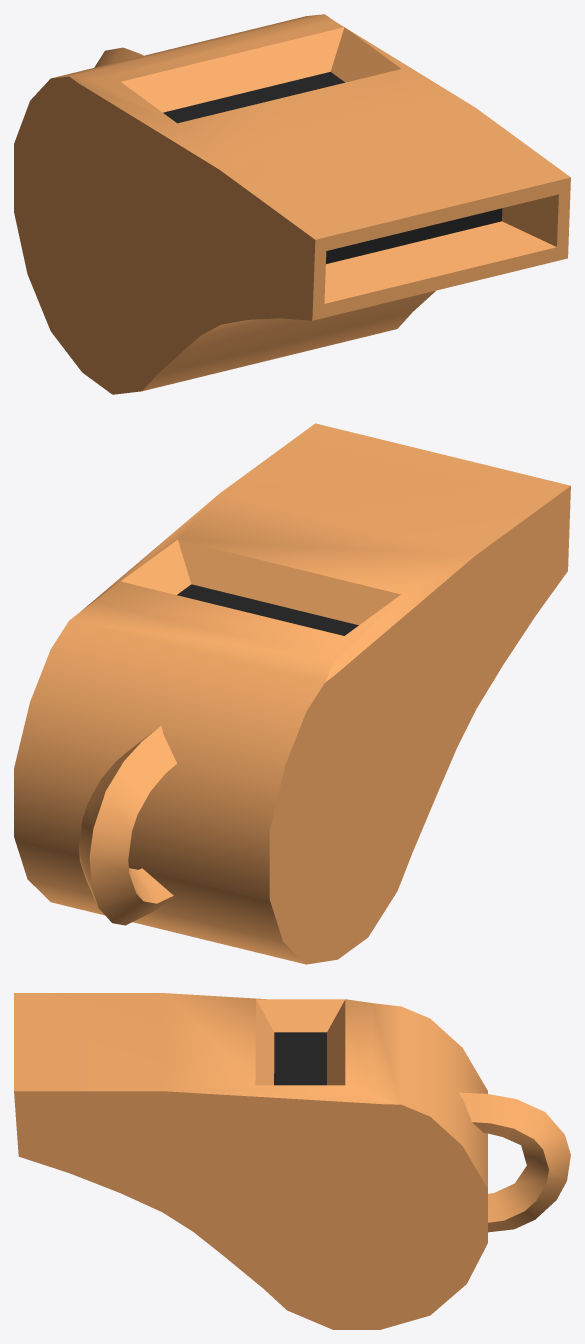
Rendered from Whistle.fbx.
3 views of the same model, one above another, from view 1: azimuth 30°, elevation 25°; view 2: azimuth 150°, elevation 25°; view 3: azimuth 270°, elevation 25° (orthographic). The views are drawn at different scales.
Parts seen in each view (by area): view 1: Whistle; view 2: Whistle; view 3: Whistle.
Boxes of the visible parts, box(x1,y1,x2,y2) form: Whistle: box(14, 14, 570, 394); Whistle: box(14, 423, 570, 964); Whistle: box(14, 993, 570, 1329).
Bounding box in the file's own units: 44.92 × 50.93 × 108.
